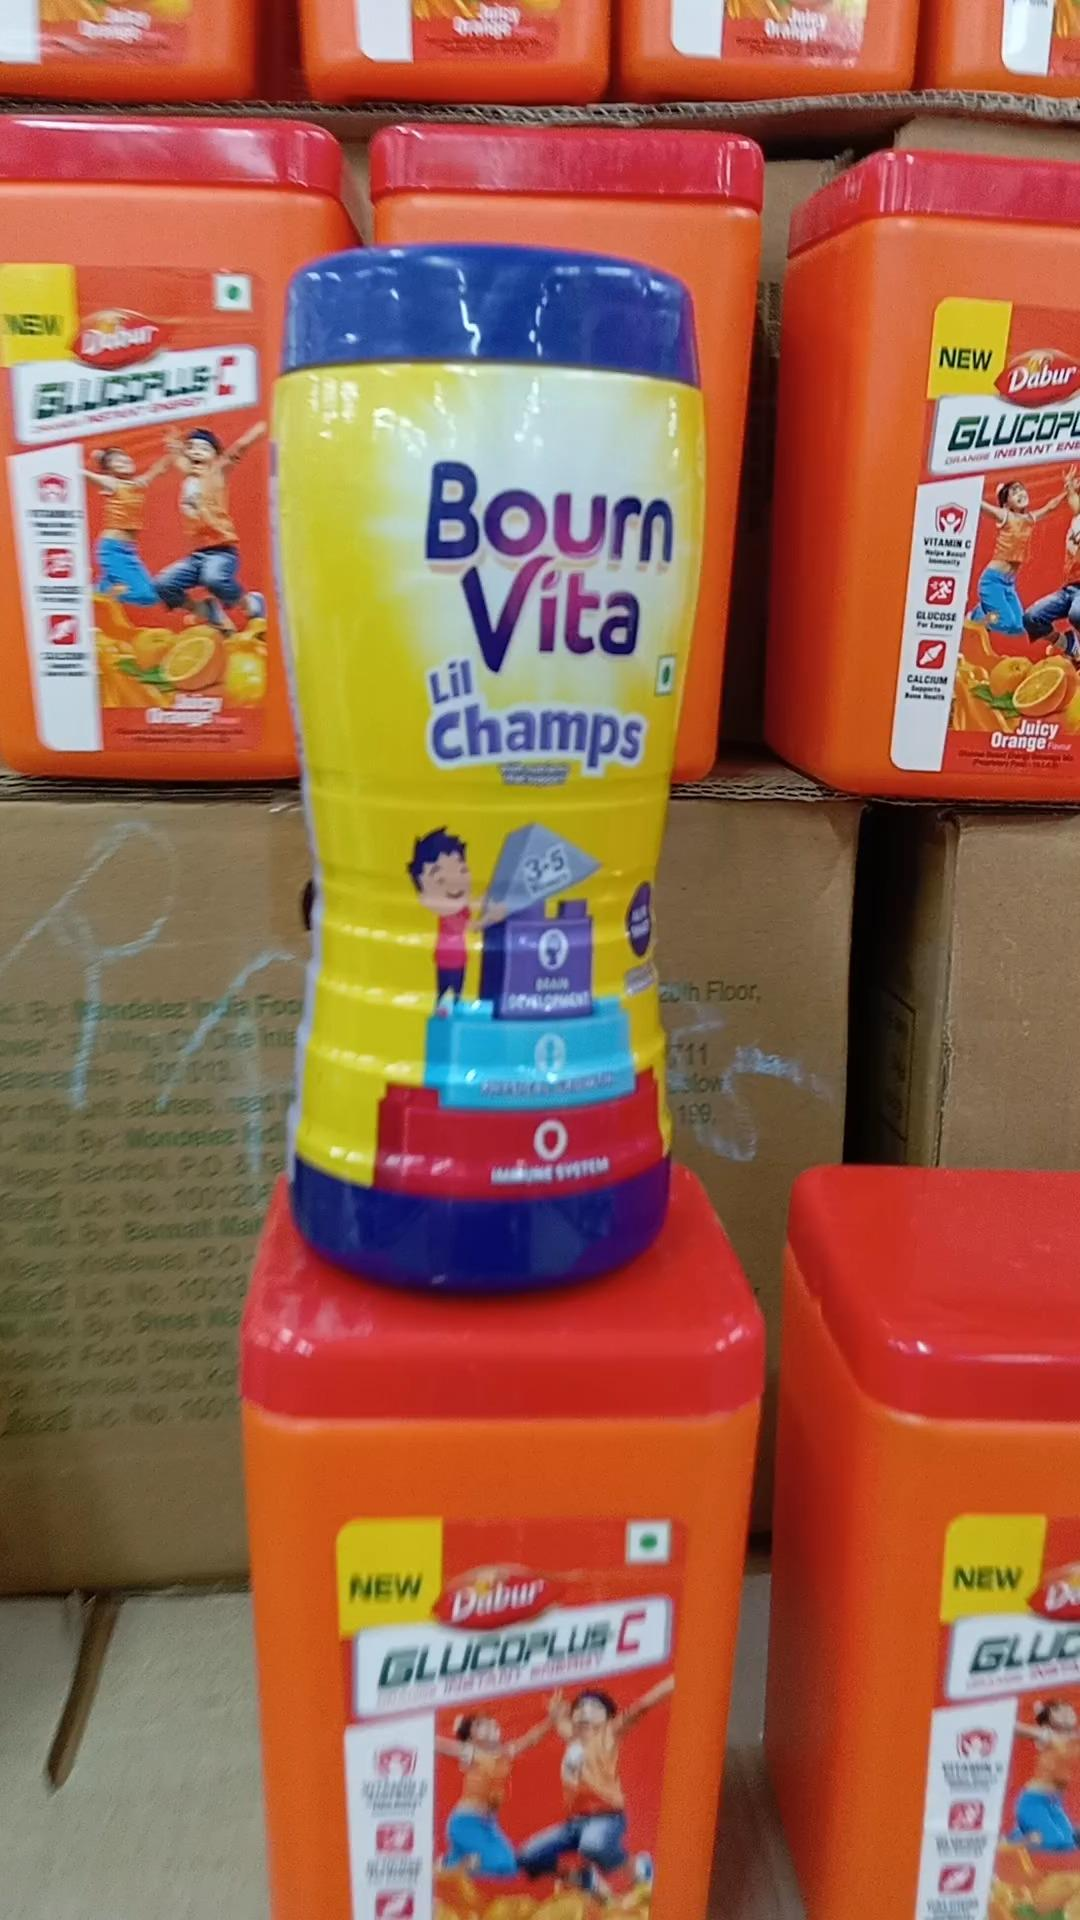BOURN_VITA_CHAMPS_500_G_JAR: (273, 243, 719, 1319)
